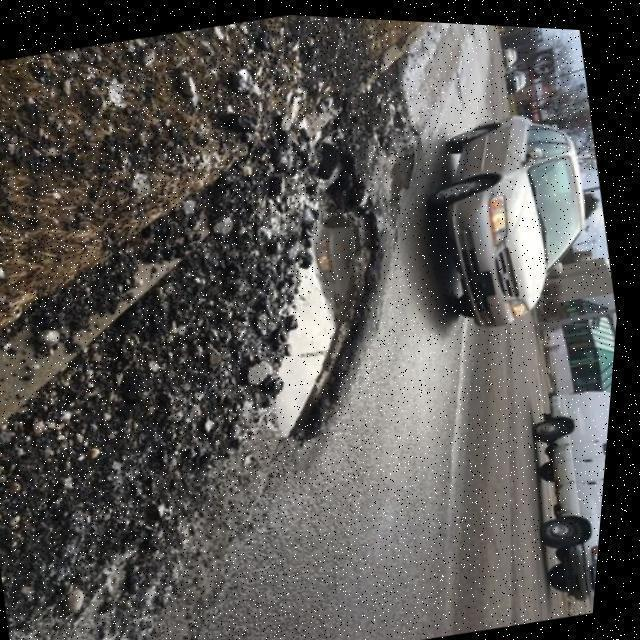Pothole: (272, 139, 392, 447)
